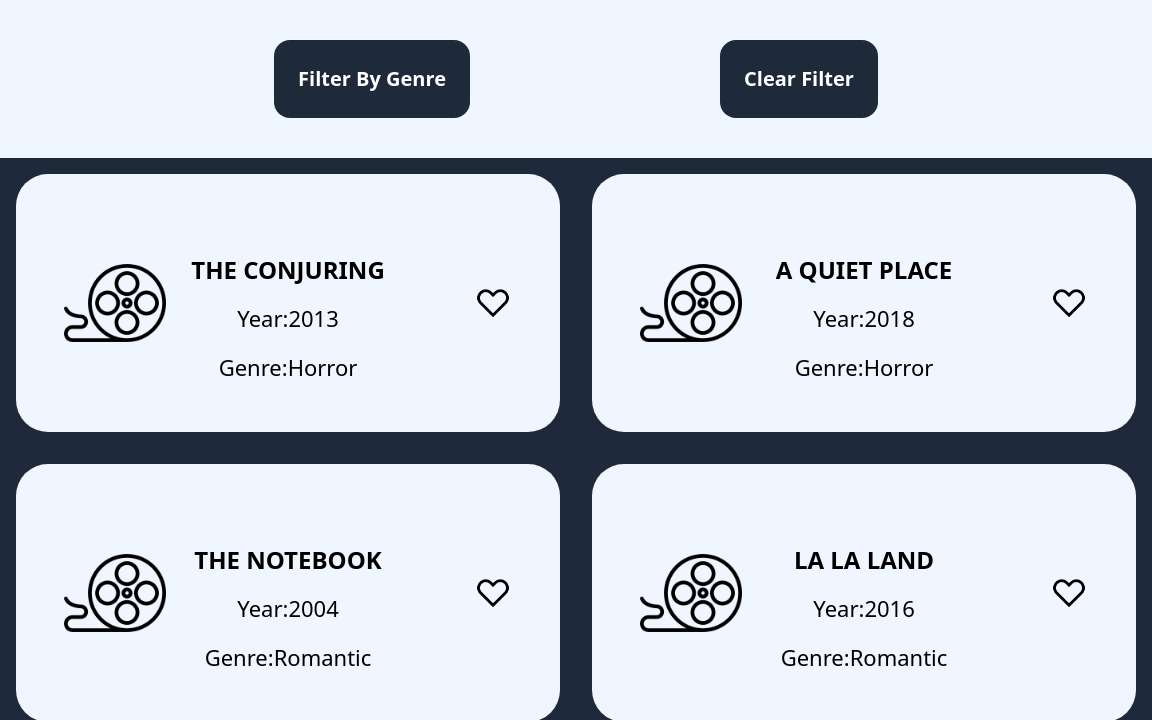
Scenario: Test the filter button and genre selection › Test that select another genre of movie when particular genre is displayed
The width and height of the screenshot is (1152, 720).
Click the button "Filter By Genre".
click(372, 79)  # box [274,40,470,118]
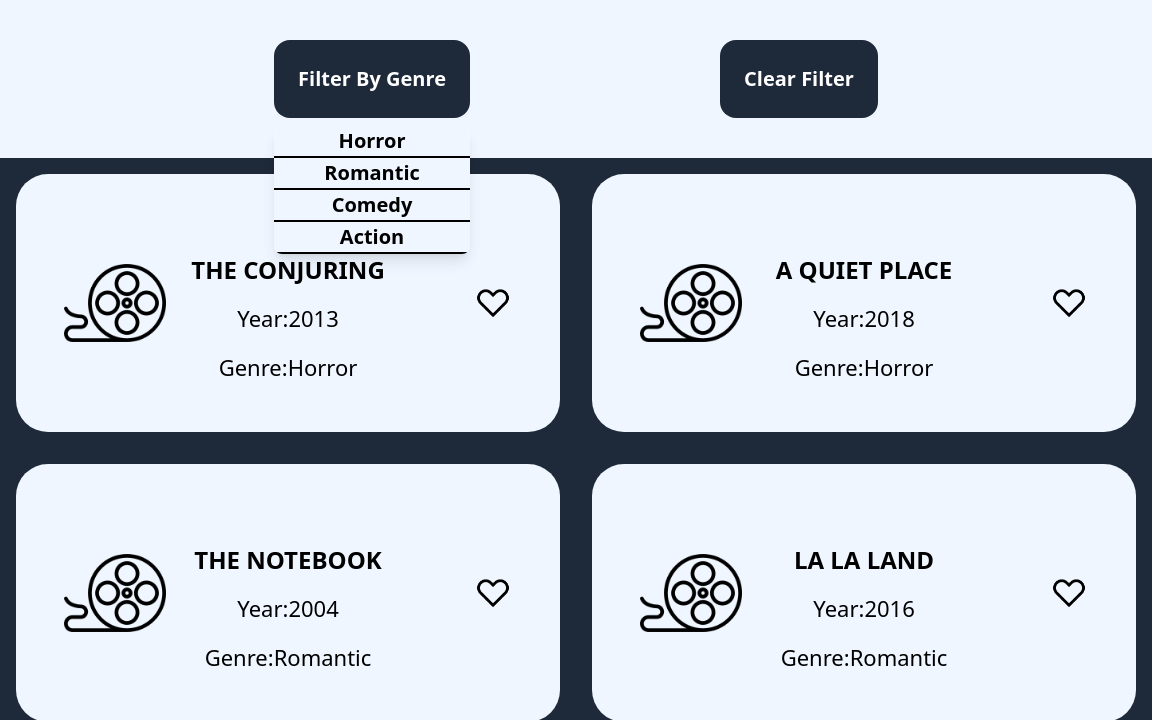
Check: the number of elements with test id "genre-options" is 4
Check: the element with test id "genre-options" reads "Horror", box [339,127,406,154]
Click the element with test id "genre-options" showing "Horror".
click(372, 142)  # box [274,126,470,158]
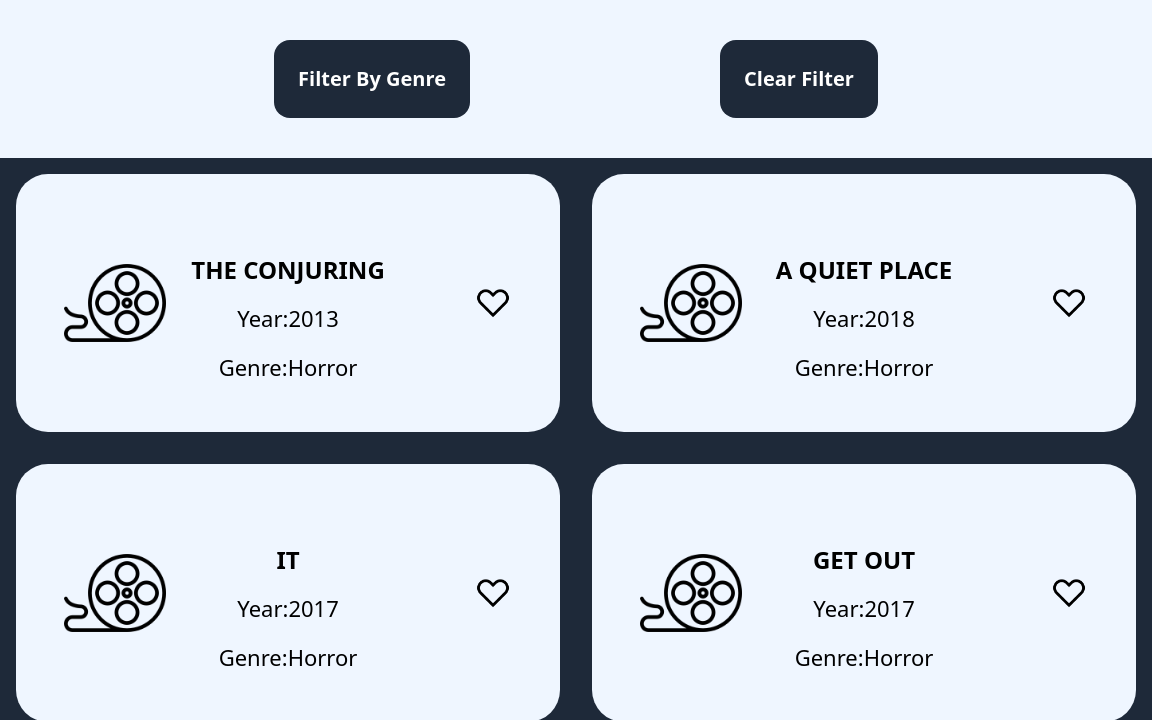
Check: the number of elements with test id "movie" is 5
Check: no elements with test id "genre-options" are shown
Click the button "Filter By Genre".
click(372, 79)  # box [274,40,470,118]
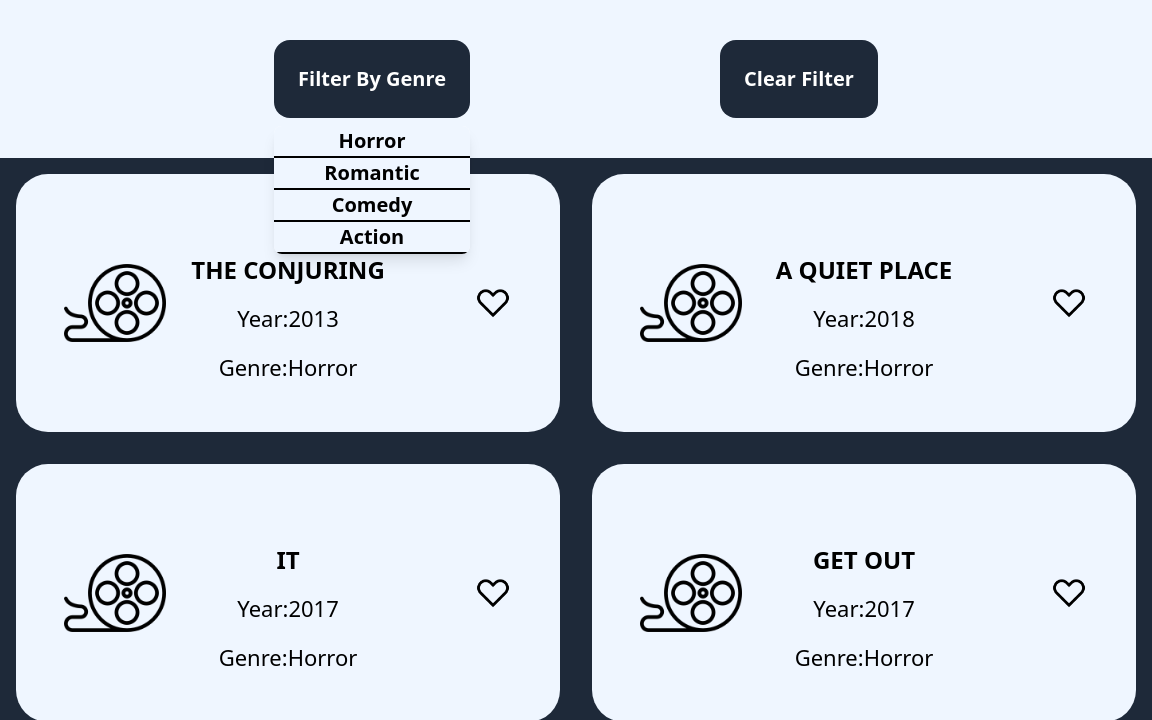
Check: the number of elements with test id "genre-options" is 4
Check: the element with test id "genre-options" reads "Romantic", box [324,159,420,186]
Click the element with test id "genre-options" showing "Romantic".
click(372, 174)  # box [274,158,470,190]
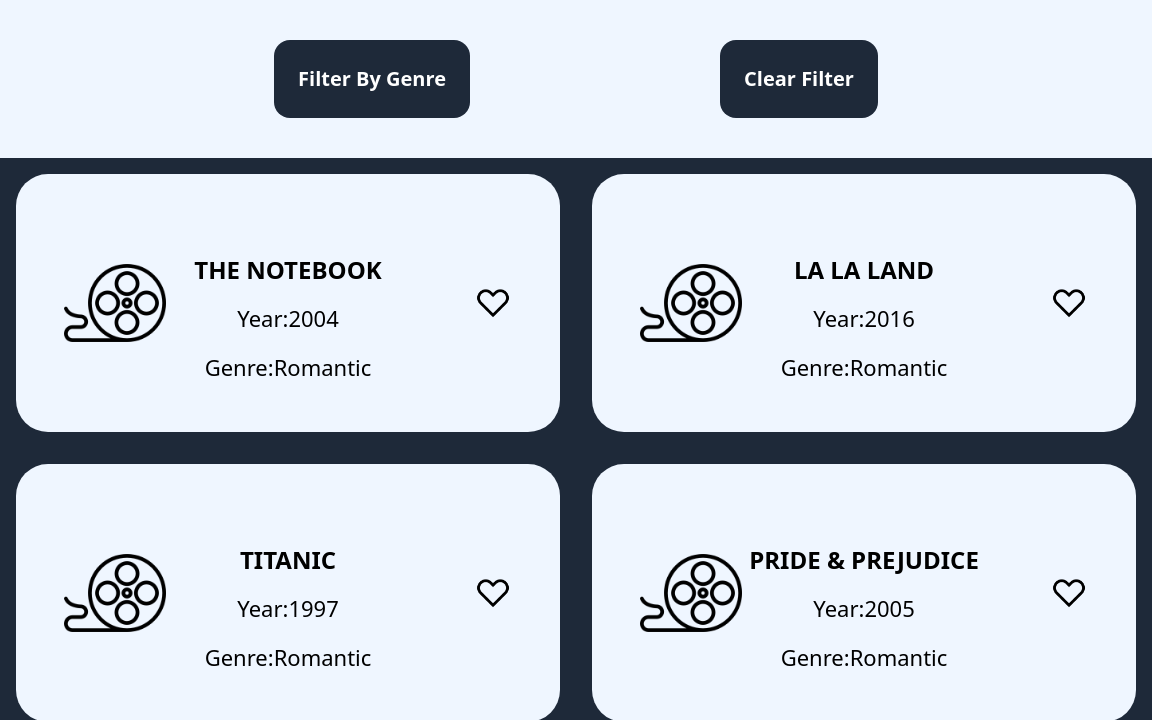
Check: the number of elements with test id "movie" is 5
Check: no elements with test id "genre-options" are shown
Click the button "Filter By Genre".
click(372, 79)  # box [274,40,470,118]
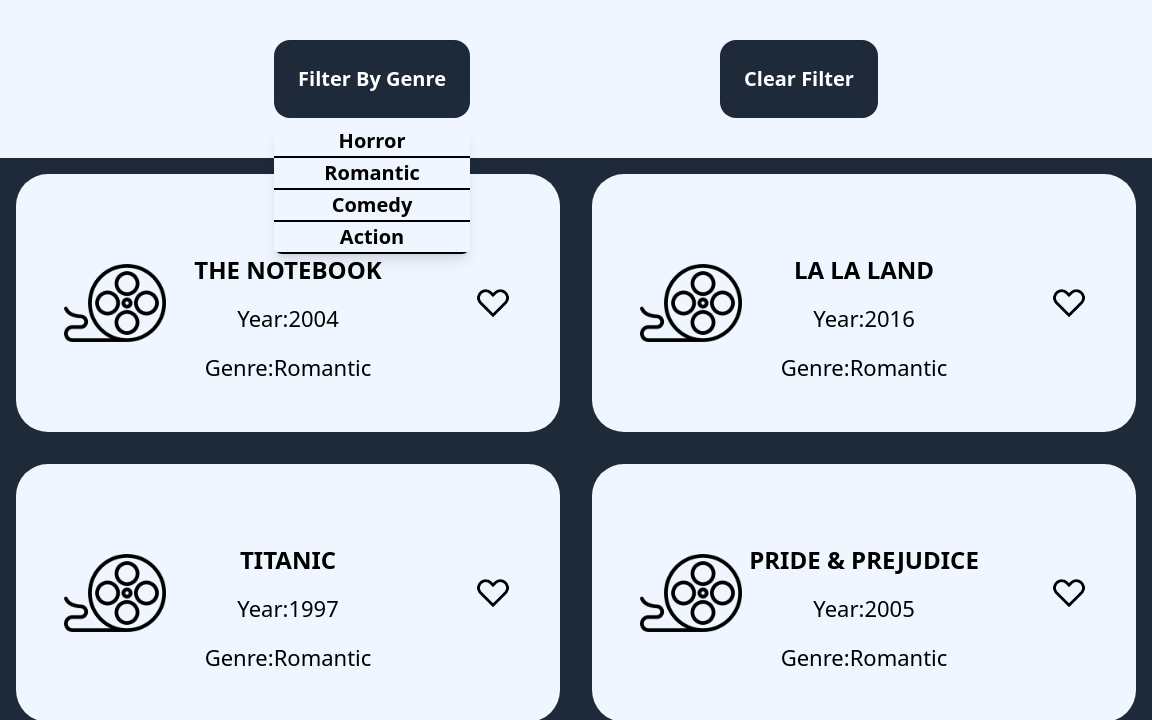
Check: the number of elements with test id "genre-options" is 4, box [274,126,470,158]; [274,158,470,190]; [274,190,470,222]; [274,222,470,254]
